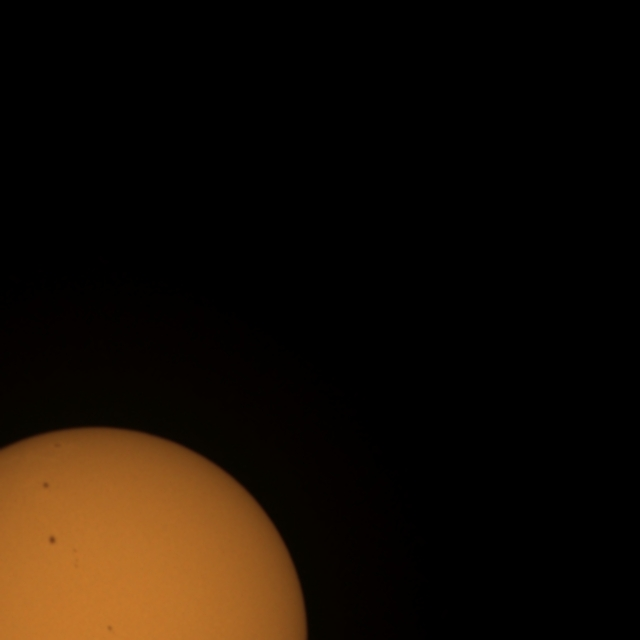sunspot: (70, 546, 80, 570), (47, 534, 58, 546), (41, 480, 51, 491), (53, 440, 62, 450), (106, 624, 114, 634)
